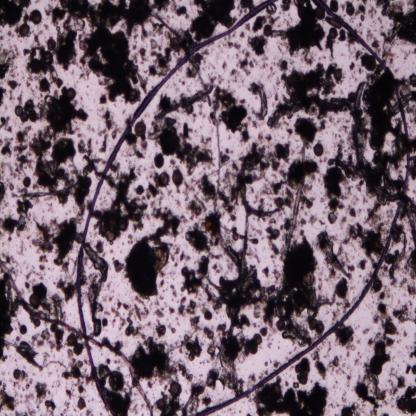Background material: (262, 233, 329, 347), (76, 29, 148, 106), (125, 209, 185, 300), (274, 61, 354, 116), (330, 142, 402, 203), (96, 168, 151, 238), (46, 1, 170, 32), (362, 68, 406, 152), (149, 117, 216, 170), (19, 29, 77, 88), (203, 323, 246, 394), (30, 127, 76, 189), (253, 380, 329, 416), (184, 196, 226, 256), (237, 160, 277, 218), (130, 336, 178, 384), (39, 88, 88, 134), (340, 76, 371, 146), (212, 85, 252, 139), (286, 0, 325, 55), (190, 0, 238, 40), (315, 229, 355, 276), (375, 1, 416, 45), (0, 264, 19, 358), (344, 220, 385, 260), (363, 335, 395, 383), (0, 199, 33, 242), (180, 254, 210, 300), (392, 196, 416, 253), (62, 347, 90, 395), (55, 216, 80, 268), (324, 165, 346, 224), (34, 280, 64, 323), (109, 300, 141, 338), (245, 132, 273, 174), (13, 125, 34, 175), (16, 334, 45, 370), (99, 358, 128, 394), (146, 38, 172, 78), (135, 169, 164, 204), (182, 380, 211, 414), (286, 157, 320, 186), (30, 215, 55, 254), (73, 170, 91, 220), (356, 377, 380, 414), (293, 116, 318, 150), (255, 177, 280, 211), (194, 172, 220, 204), (329, 275, 353, 309), (77, 137, 99, 174), (105, 386, 133, 415), (164, 28, 195, 53), (0, 1, 32, 25), (40, 326, 66, 354), (14, 96, 40, 124), (0, 45, 20, 80), (399, 80, 416, 120), (127, 134, 150, 162), (385, 252, 405, 284), (179, 332, 203, 358), (0, 159, 14, 202), (397, 383, 416, 414), (391, 300, 416, 323), (292, 358, 311, 388), (336, 326, 357, 353), (188, 54, 207, 83), (54, 277, 76, 302), (372, 301, 394, 326), (246, 34, 268, 59), (101, 107, 117, 140), (0, 380, 16, 412), (206, 59, 226, 84), (175, 358, 195, 382), (312, 352, 328, 381), (262, 23, 287, 41), (364, 201, 382, 226), (13, 366, 32, 389), (237, 50, 254, 75), (273, 141, 291, 164), (388, 373, 406, 396), (401, 251, 416, 278), (260, 58, 276, 82), (380, 43, 398, 64), (408, 134, 416, 181), (161, 398, 183, 415), (372, 280, 390, 300), (22, 269, 38, 290), (0, 133, 13, 158), (243, 338, 259, 358), (34, 378, 50, 398), (366, 31, 381, 52), (178, 296, 195, 314), (251, 16, 269, 32), (172, 2, 188, 20), (328, 352, 341, 374), (325, 36, 336, 60), (355, 2, 368, 22), (342, 400, 359, 415), (188, 315, 202, 333), (153, 322, 168, 338), (346, 204, 363, 218), (340, 367, 352, 386), (37, 77, 52, 92), (240, 0, 256, 14), (225, 39, 242, 52), (303, 48, 315, 66), (366, 2, 378, 20), (43, 398, 55, 416), (0, 116, 14, 131), (111, 258, 125, 273), (37, 254, 49, 271), (99, 134, 109, 154), (153, 152, 164, 170), (356, 255, 368, 271), (97, 90, 108, 106), (280, 0, 293, 13), (29, 293, 40, 308), (154, 306, 165, 321), (404, 362, 416, 375), (265, 14, 279, 25), (6, 80, 20, 91), (202, 307, 213, 321), (317, 119, 327, 134), (0, 86, 7, 107), (346, 0, 355, 16), (329, 0, 340, 13), (245, 370, 256, 383), (230, 70, 240, 84), (406, 282, 416, 296), (278, 58, 288, 72), (409, 340, 416, 358), (77, 398, 87, 410), (262, 266, 270, 280), (309, 214, 319, 225), (284, 126, 294, 137), (166, 323, 176, 334), (340, 29, 347, 44), (354, 49, 362, 61), (171, 284, 177, 298), (245, 21, 252, 32), (349, 60, 356, 71), (410, 74, 416, 86), (340, 1, 346, 12), (169, 306, 176, 314)
Cellulose filter fibre: (0, 258, 154, 414), (227, 208, 252, 339), (84, 241, 108, 336), (157, 84, 213, 119), (284, 176, 307, 256), (210, 113, 223, 211), (19, 181, 79, 200), (252, 84, 268, 118)
Diatom: (364, 54, 377, 71), (302, 271, 315, 287), (134, 122, 146, 138), (315, 6, 327, 21), (313, 142, 324, 158), (31, 10, 42, 26), (134, 302, 142, 323), (172, 170, 183, 185), (170, 382, 181, 396), (104, 229, 115, 242), (159, 173, 169, 187), (19, 24, 30, 36), (266, 3, 278, 14), (22, 175, 32, 188), (384, 321, 394, 334), (66, 88, 76, 101), (329, 27, 339, 40), (156, 397, 166, 410), (67, 334, 77, 347), (375, 386, 384, 400), (51, 221, 62, 232), (171, 36, 180, 48), (254, 332, 262, 345), (276, 196, 284, 209), (333, 70, 342, 81), (74, 343, 83, 354), (316, 322, 324, 334), (20, 324, 27, 334)
Hair textile: (194, 0, 416, 415), (75, 0, 279, 414)
